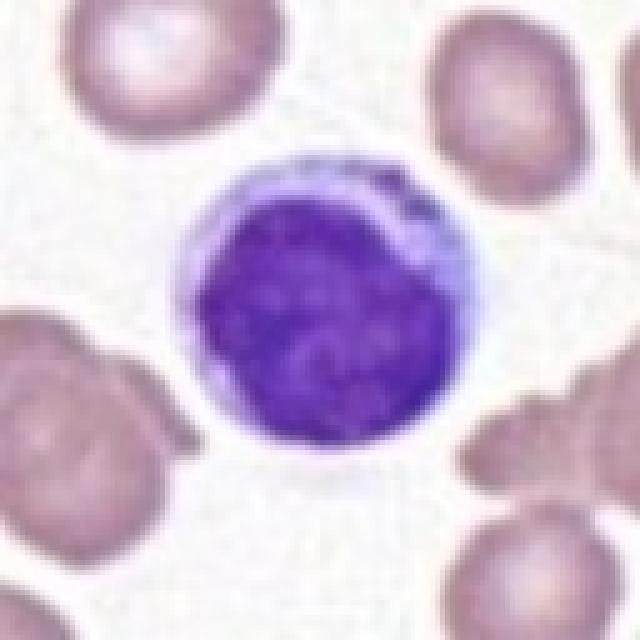lympho: (165, 148, 489, 453)
